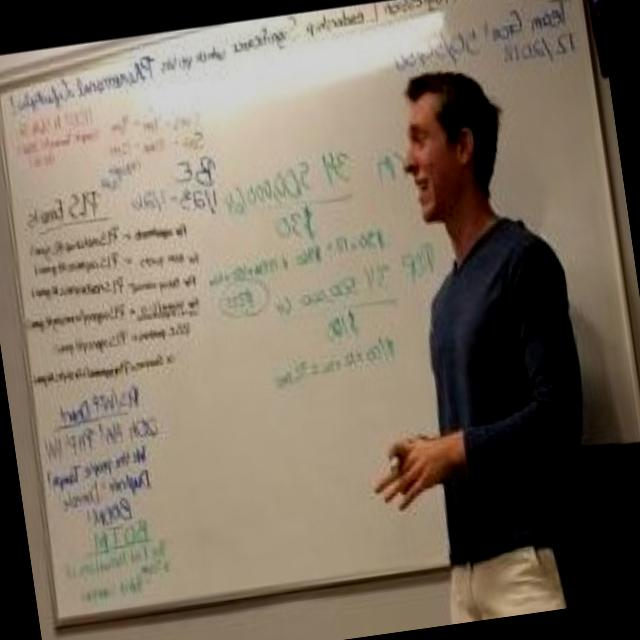Instructor: (378, 62, 610, 618)
White-board: (0, 0, 640, 631)
